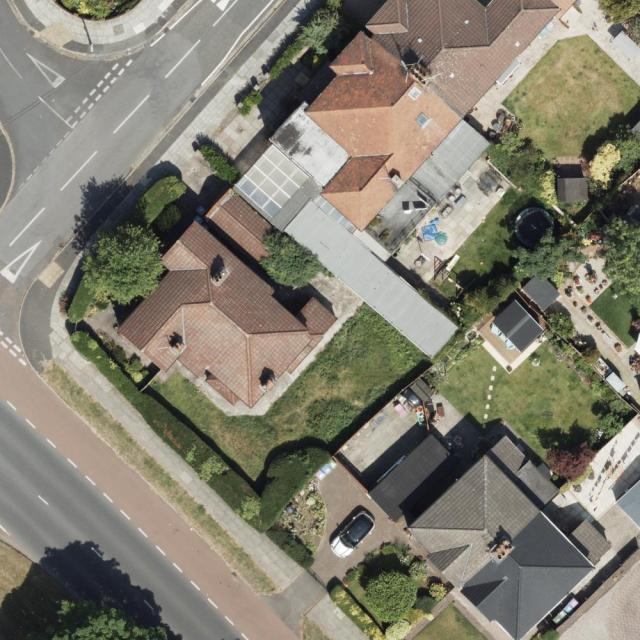roof: (205, 0, 577, 361), (369, 433, 613, 640), (116, 223, 340, 408), (618, 477, 640, 528)
skylight: (234, 143, 311, 218), (313, 195, 358, 236), (414, 112, 430, 127), (408, 85, 422, 102)
